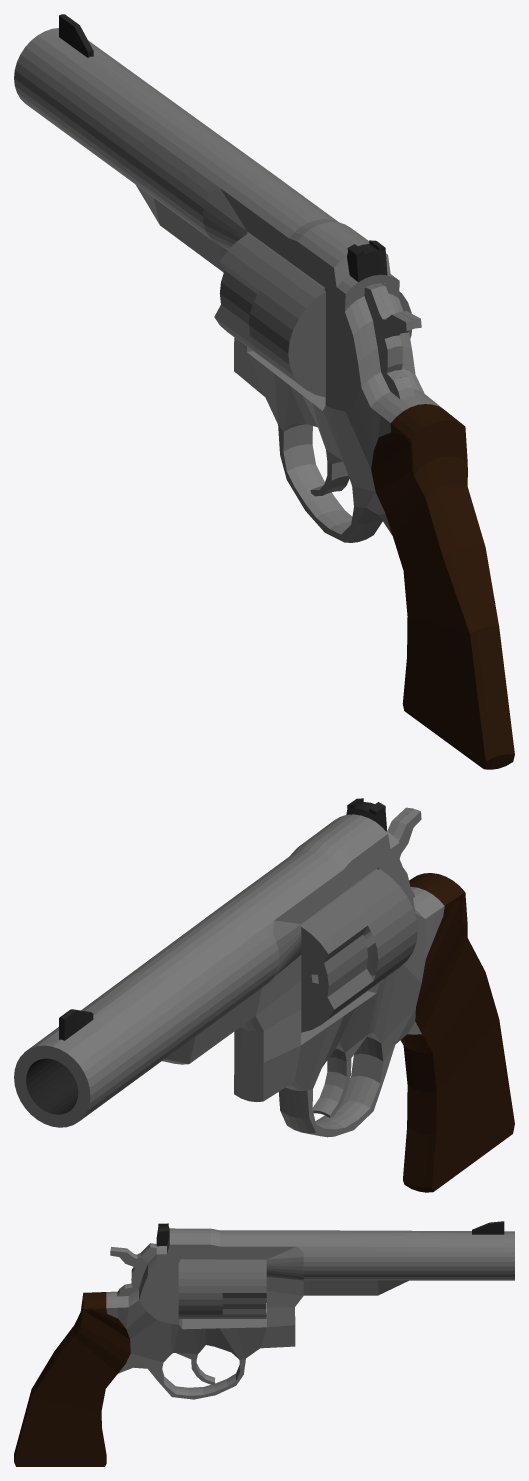
File: Revolver1.obj
3 renders of one model, top to bottom at view 1: azimuth 30°, elevation 25°; view 2: azimuth 150°, elevation 25°; view 3: azimuth 270°, elevation 25°, orthographic. The views are drawn at different scales.
Visible parts, largest first — view 1: Cylinder; view 2: Cylinder; view 3: Cylinder.
Part boxes in pixels (box(x1,y1,x2,y2)): Cylinder: box(14, 14, 514, 769); Cylinder: box(14, 798, 514, 1192); Cylinder: box(14, 1221, 514, 1466).
Bounding box in the file's own units: 1.51 × 5.03 × 9.39.
